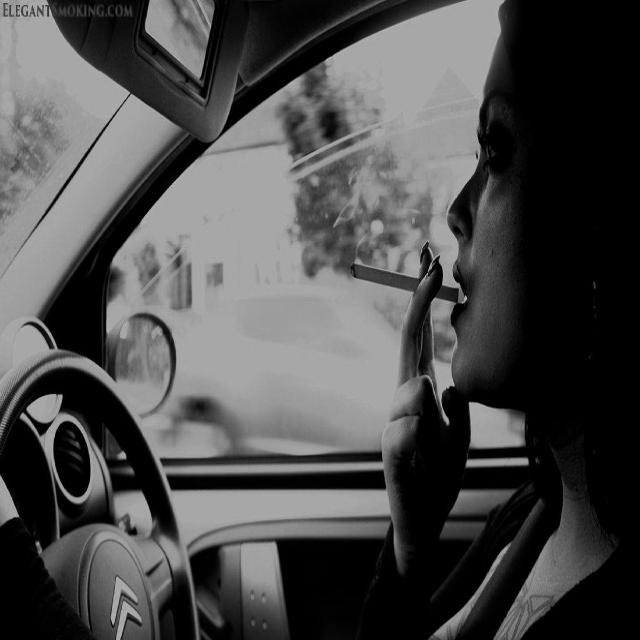Cigarette: (344, 244, 466, 322)
